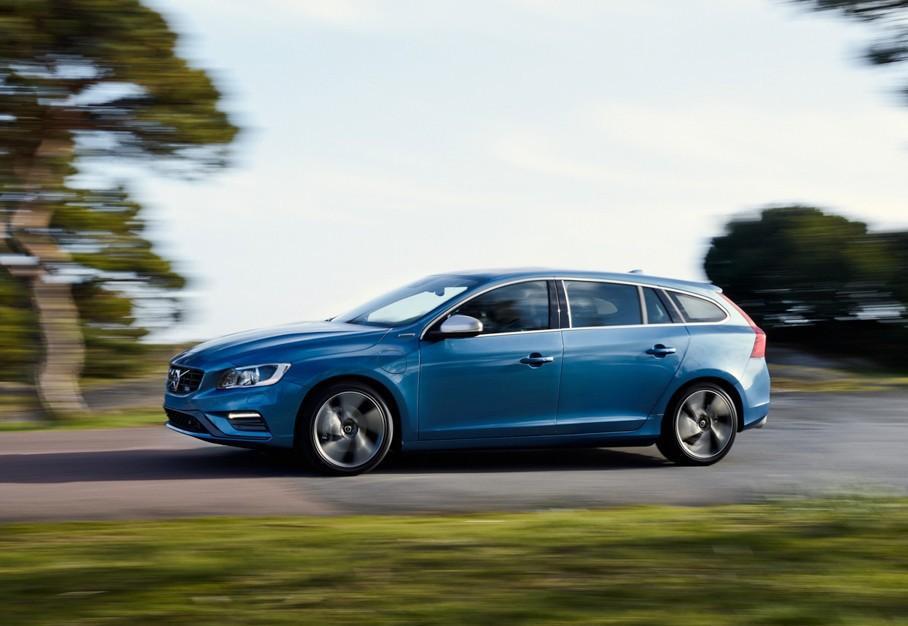Wagon: (163, 269, 772, 476)
